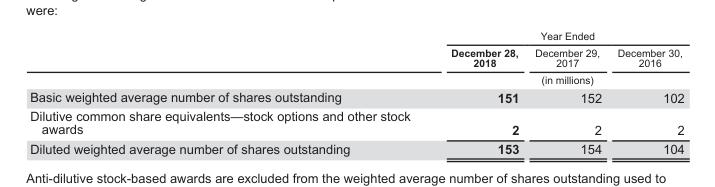table: (29, 29, 683, 156)
table column: (29, 29, 430, 156), (430, 29, 526, 156), (526, 29, 608, 156), (608, 29, 683, 156)
table column header: (29, 29, 683, 87)
table row: (29, 106, 683, 138), (29, 43, 683, 70), (29, 87, 683, 106), (29, 138, 683, 156), (29, 70, 683, 87), (29, 29, 683, 43)
table spanning cell: (430, 70, 683, 87), (430, 29, 683, 43)
